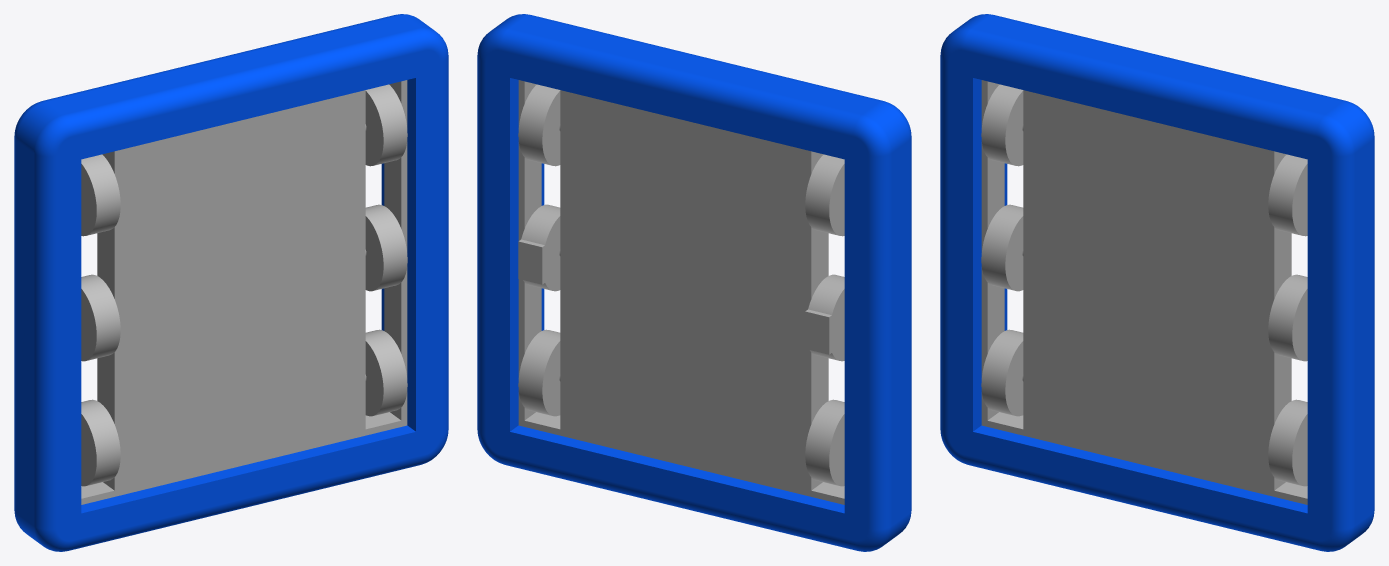
The picture shows the model from 3 angles, left to right: view 1: azimuth 30°, elevation 25°; view 2: azimuth 150°, elevation 25°; view 3: azimuth 330°, elevation 25°; orthographic projection.
Visible parts, largest first — view 1: Basic Square KoP Bot [0:1:1:1], Basic Square KoP Bot BUMPERCOLOR [0:1:1:3]; view 2: Basic Square KoP Bot [0:1:1:1], Basic Square KoP Bot BUMPERCOLOR [0:1:1:3]; view 3: Basic Square KoP Bot [0:1:1:1], Basic Square KoP Bot BUMPERCOLOR [0:1:1:3].
Boxes of the visible parts, x1,y1,x2,y2 form: Basic Square KoP Bot [0:1:1:1]: (81, 80, 407, 504); Basic Square KoP Bot BUMPERCOLOR [0:1:1:3]: (14, 14, 448, 551); Basic Square KoP Bot [0:1:1:1]: (518, 80, 844, 504); Basic Square KoP Bot BUMPERCOLOR [0:1:1:3]: (477, 14, 911, 551); Basic Square KoP Bot [0:1:1:1]: (981, 80, 1307, 504); Basic Square KoP Bot BUMPERCOLOR [0:1:1:3]: (940, 14, 1374, 551).
Size of the model in its own units: 0.8763 by 0.8839 by 0.1524.
